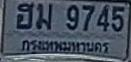4: (97, 5, 109, 32)
5: (111, 5, 124, 31)
7: (82, 4, 94, 30)
9: (66, 4, 79, 29)
A33: (36, 3, 53, 30)
A44: (16, 2, 34, 29)
BKK: (18, 37, 111, 57)
